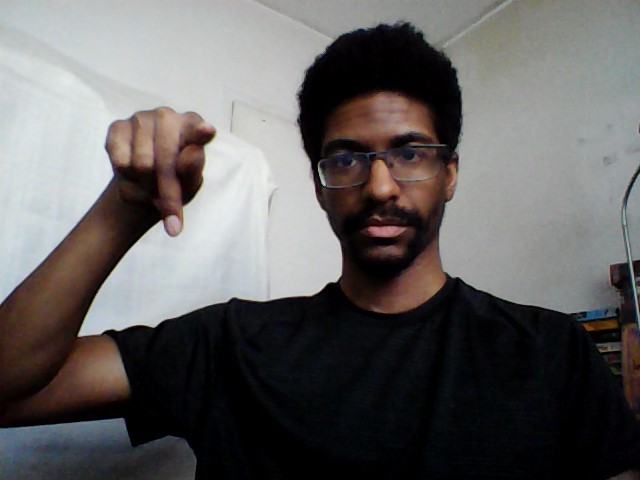p: (100, 103, 223, 247)
